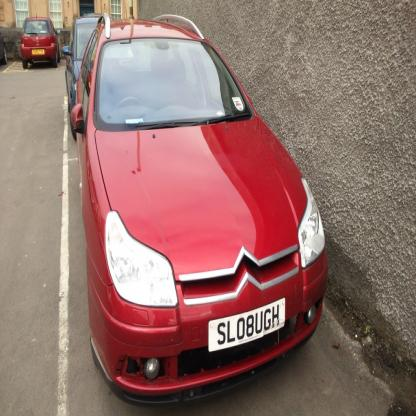Car: (71, 15, 327, 407), (63, 15, 101, 137), (23, 12, 60, 68), (1, 29, 8, 65)
